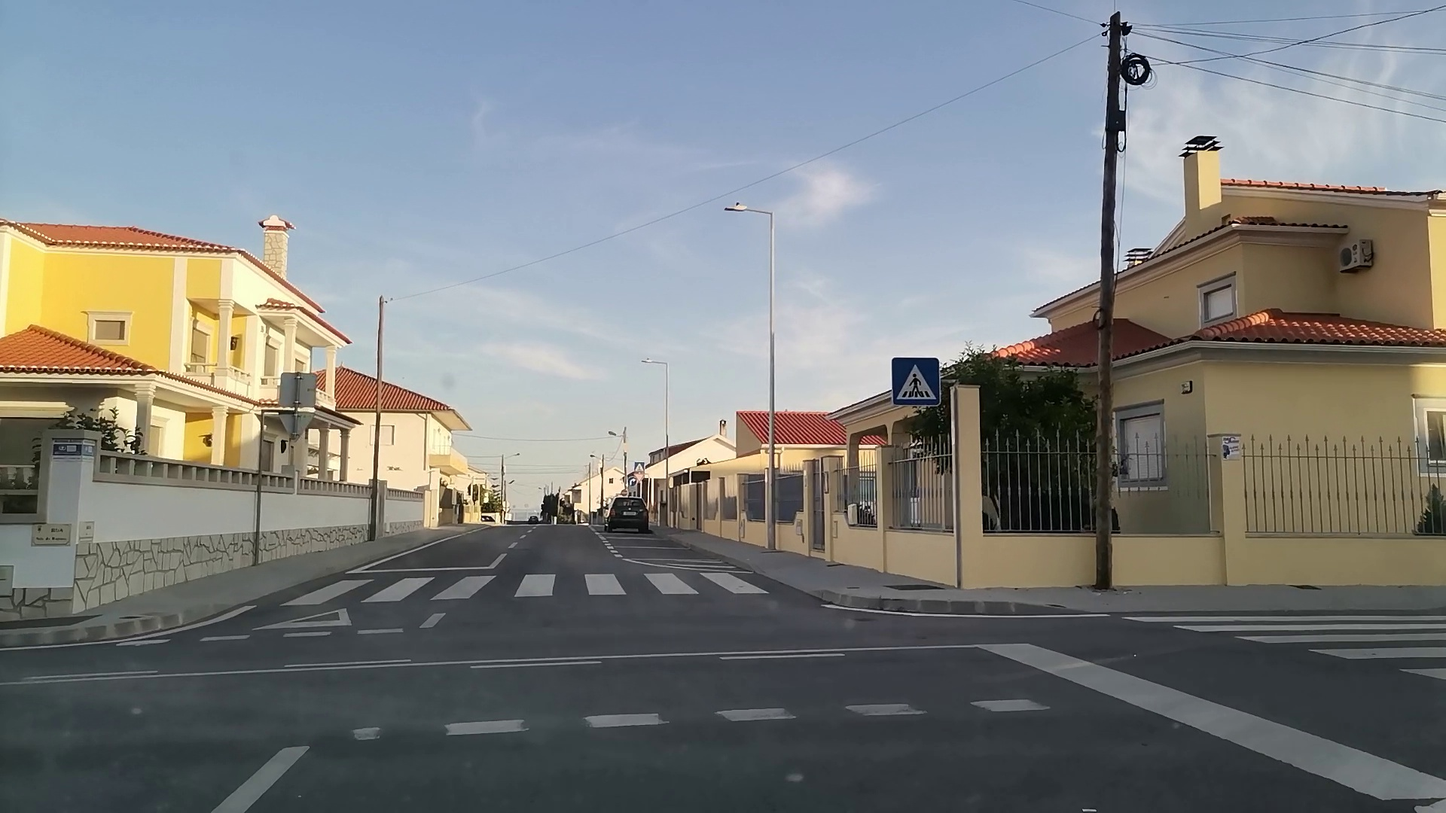Stairs: (284, 568, 767, 606)
